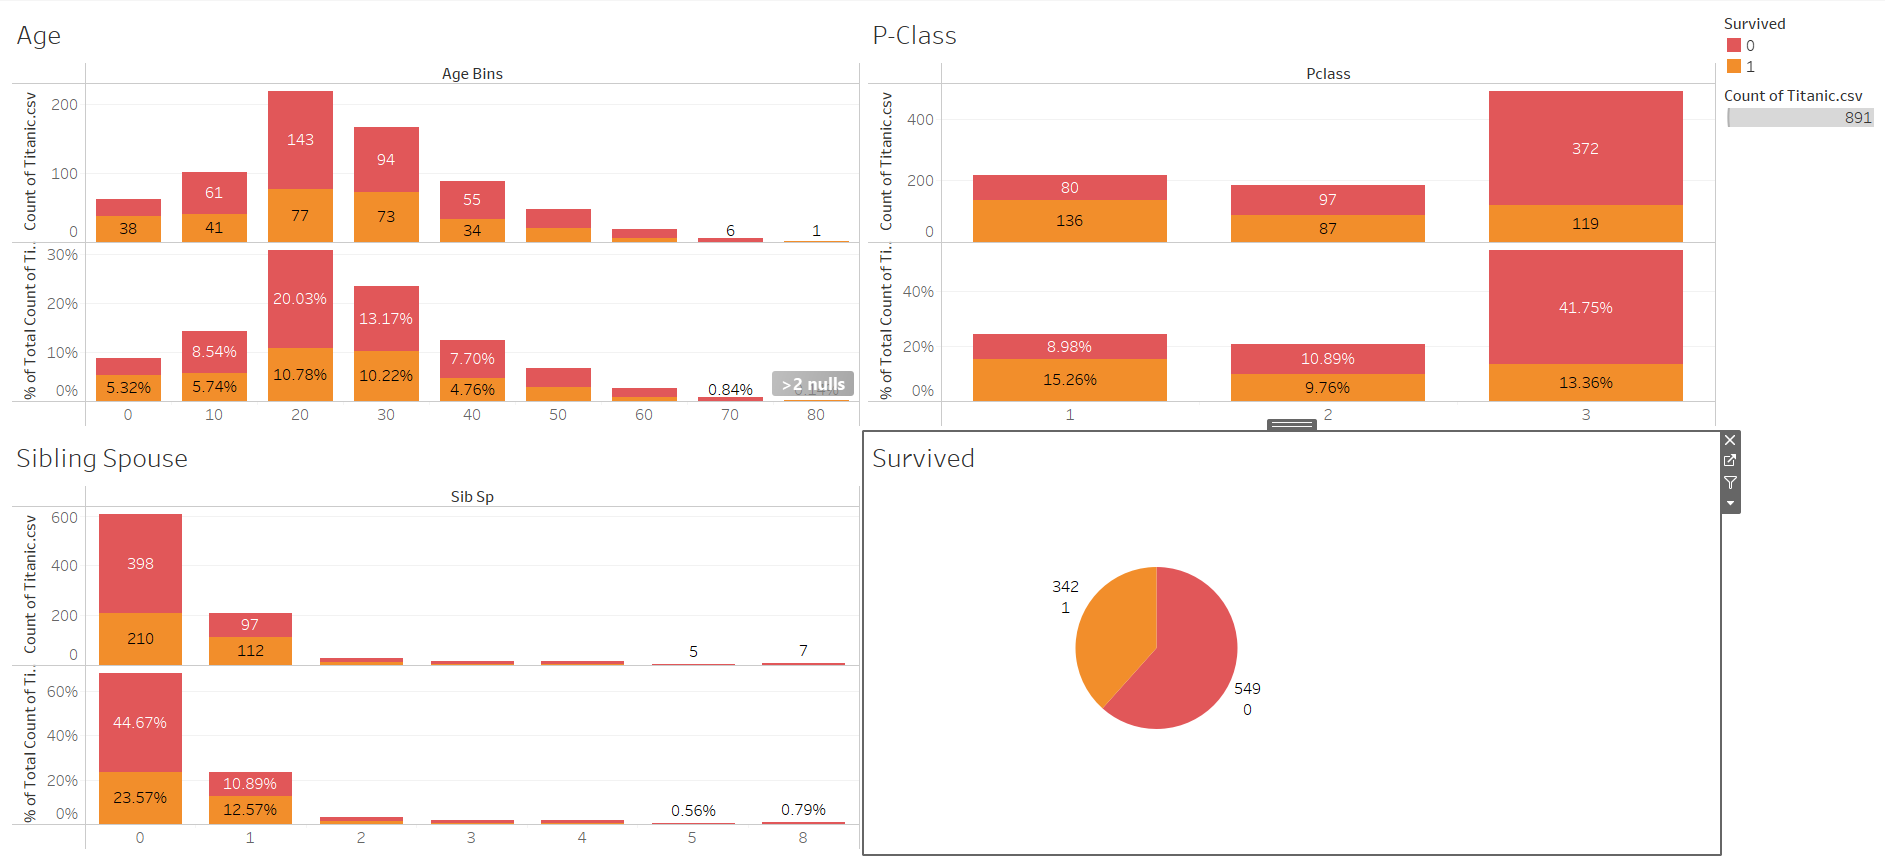

What the dashboard file says about the page in this screenshot:
{"tool":"tableau","page":{"name":"Dashboard 1","canvas":[1000,1000],"units":"permille","ordinal":0},"visuals":[{"type":"worksheet","title":"Age","mark":"Automatic","rows":["Titanic.csv_25B42F05A3A04D489EB65CBE2CC12ACD","Titanic.csv_25B42F05A3A04D489EB65CBE2CC12ACD"],"cols":["Age (bin)"],"box":[4.2,9.3,453.4,490.7]},{"type":"worksheet","title":"P-Class","mark":"Automatic","rows":["Titanic.csv_25B42F05A3A04D489EB65CBE2CC12ACD","Titanic.csv_25B42F05A3A04D489EB65CBE2CC12ACD"],"cols":["Pclass"],"box":[457.6,9.3,453.4,490.7]},{"type":"legend","title":"Age","param":"[federated.094ascn0055u4m17a16f91ls02by].[none:Survived:ok]","box":[911,9.3,84.8,83.6]},{"type":"legend","title":"Survived","param":"[federated.094ascn0055u4m17a16f91ls02by].[__tableau_internal_object_id__].[cnt:T","box":[911,92.9,84.8,59.2]},{"type":"worksheet","title":"Sibling Spouse","mark":"Automatic","rows":["Titanic.csv_25B42F05A3A04D489EB65CBE2CC12ACD","Titanic.csv_25B42F05A3A04D489EB65CBE2CC12ACD"],"cols":["SibSp"],"box":[4.2,500,453.4,490.7]},{"type":"worksheet","title":"Survived","mark":"Pie","box":[457.6,500,453.4,490.7]}]}

Visuals, with their boxes on the dashboard's canvas, which has no fixed pixel size, in thousandths of its width and height (x1, y1, x2, y2). These are canvas units, not pixel positions in the 1885x860 screenshot, which may show the page scaled, cropped or inside an application window:
"Age" worksheet: <box>4,9,458,500</box>
"P-Class" worksheet: <box>458,9,911,500</box>
"Age" legend: <box>911,9,996,93</box>
"Survived" legend: <box>911,93,996,152</box>
"Sibling Spouse" worksheet: <box>4,500,458,991</box>
"Survived" worksheet (Pie marks): <box>458,500,911,991</box>
